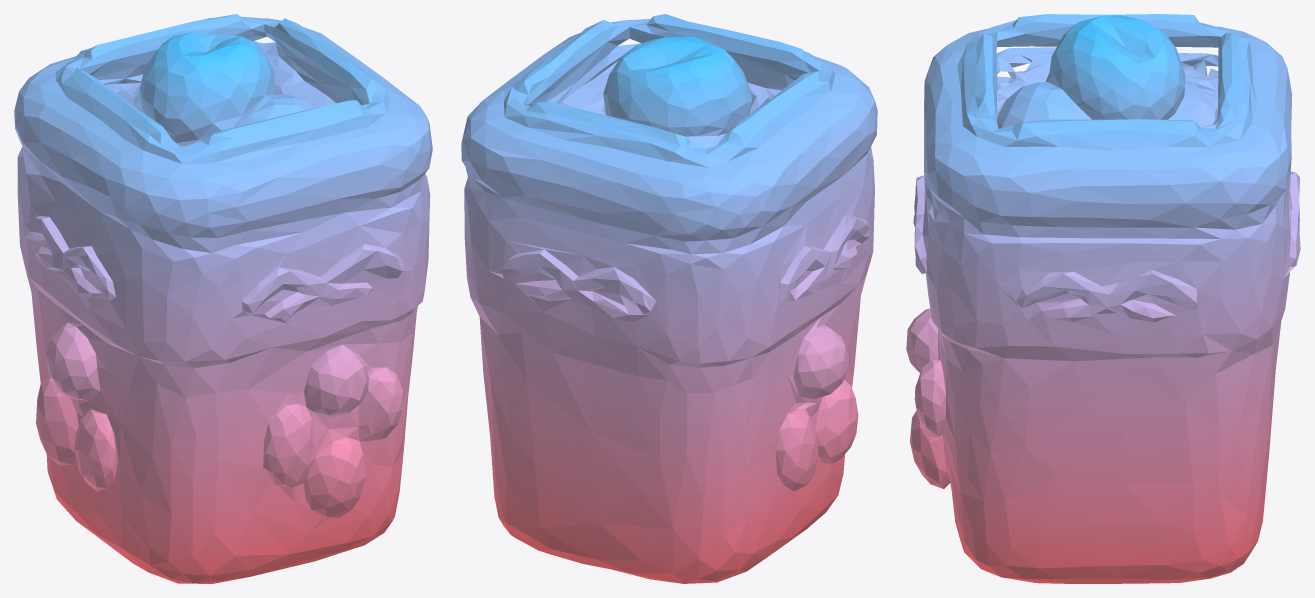
File: 162_cyb_laser_gradient_fish_scales_2993_2026_10_03_8d0f51.glb
3 renders of one model, left to right at view 1: azimuth 30°, elevation 25°; view 2: azimuth 150°, elevation 25°; view 3: azimuth 270°, elevation 25°, orthographic. The views are drawn at different scales.
Parts seen in each view (by area): view 1: geometry_0; view 2: geometry_0; view 3: geometry_0.
Boxes of the visible parts, x1,y1,x2,y2 form: geometry_0: (14,14,432,583); geometry_0: (461,14,877,583); geometry_0: (906,14,1300,583).
Bounding box in the file's own units: 0.7256 × 1 × 0.7155.
